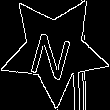N_N: (29, 20, 79, 79)
